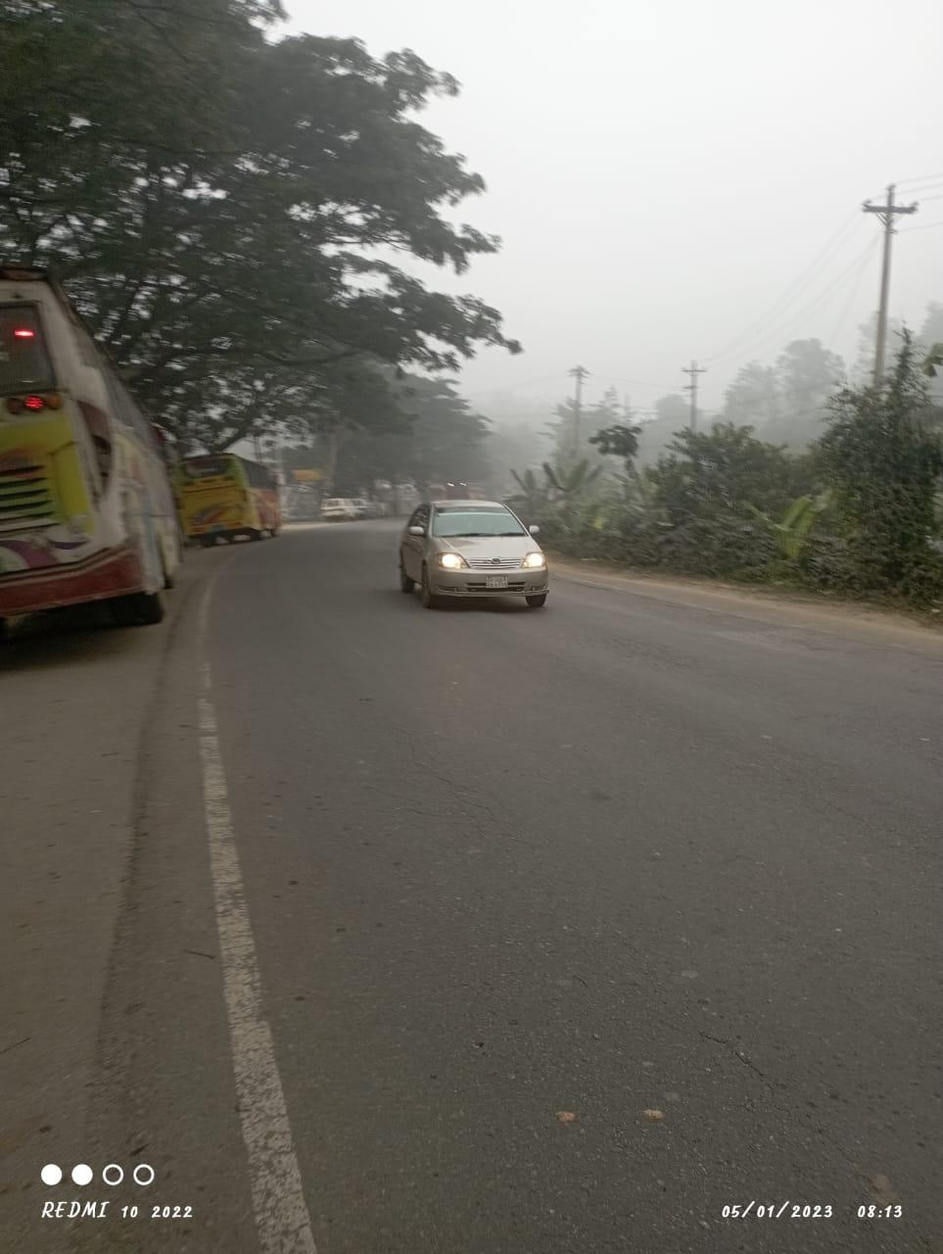Bus: (5, 255, 202, 626), (172, 440, 298, 542)
Car: (390, 491, 562, 611)
